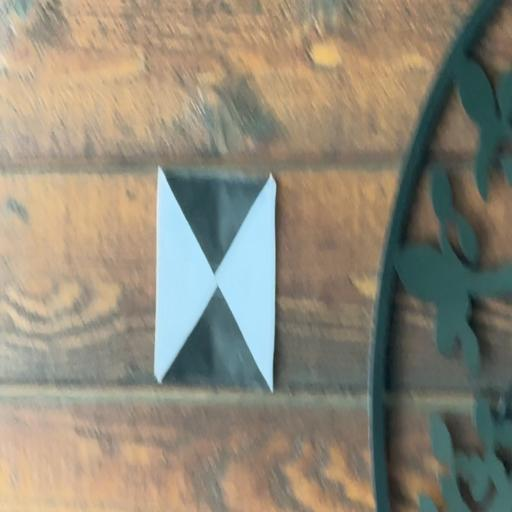target: (158, 168, 274, 391)
